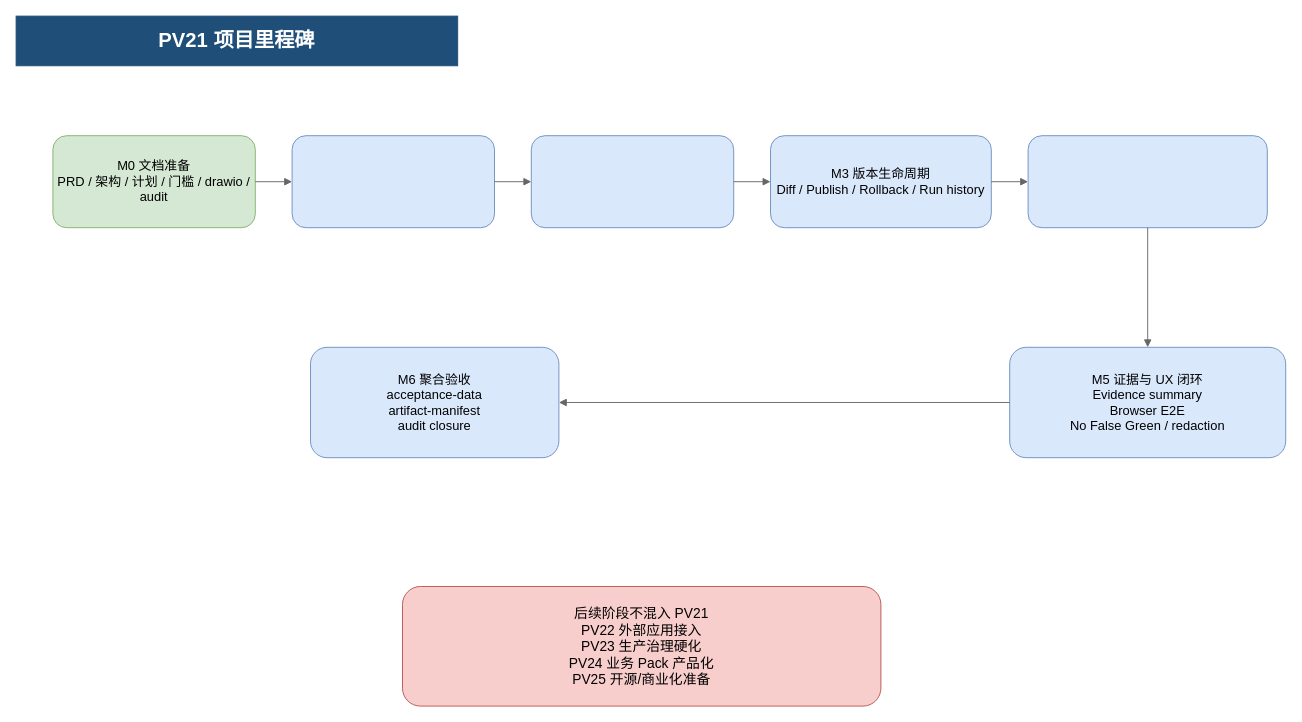
This 1302x722 diagram has some shape labels left out. The box of each missing label's shape, as (x1, y1, x2, y2) in pixels:
M1 入口与状态 Studio state DTO 首屏截图: (291, 135, 494, 228)
M2 画布编辑 Graph roundtrip Validation: (530, 135, 734, 228)
M4 运行与人工交互 WorkflowInstance / StationRun / Human gate: (1027, 135, 1267, 228)
